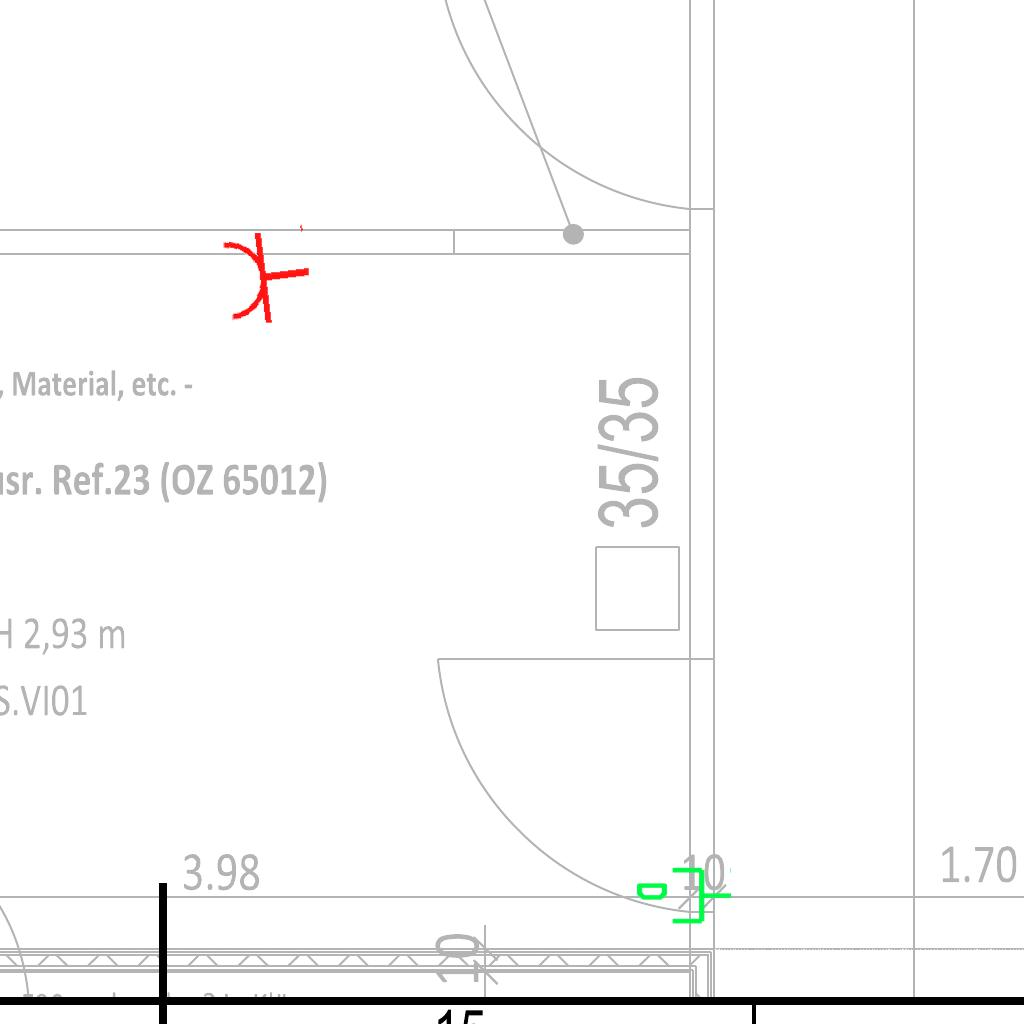Datenanschluss_einfach: (634, 863, 734, 932)
Schukosteckdose_einfach: (218, 220, 317, 330)
